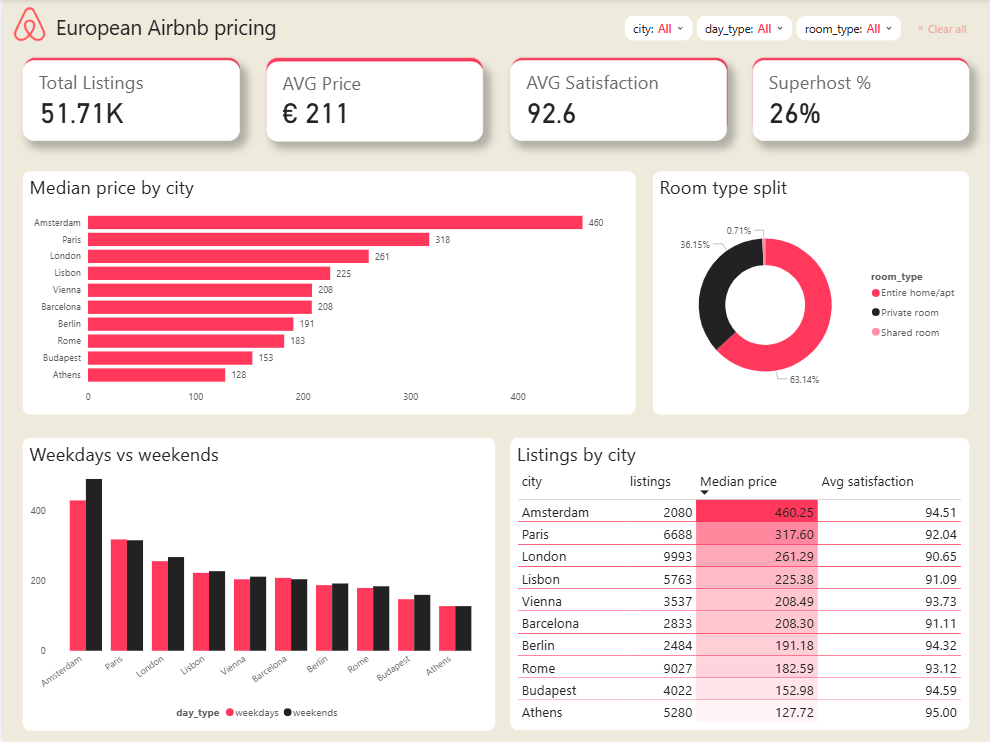

This screenshot's page, from the dashboard's own definition file:
{"tool":"powerbi","page":{"name":"Overview","canvas":[1280,970],"ordinal":0},"visuals":[{"type":"textbox","box":[52.5,7.5,317.5,67.5],"z":0},{"type":"PBI_CV_7B952816_A48F_49B4_9E13_15E3BB2C0337","title":"Total Listings","fields":{"Values":["CountNonNull(GOLD fact_listing.listing_key)"]},"box":[26,76,280.8,98.8],"z":1000},{"type":"PBI_CV_7B952816_A48F_49B4_9E13_15E3BB2C0337","title":"Total Listings","fields":{"Values":["CountNonNull(GOLD fact_listing.listing_key)"]},"box":[25,80,282.6,104.6],"z":2000},{"type":"PBI_CV_7B952816_A48F_49B4_9E13_15E3BB2C0337","title":"Total Listings","fields":{"Values":["CountNonNull(GOLD fact_listing.listing_key)"]},"box":[341.5,76.2,281,98.8],"z":3000},{"type":"PBI_CV_7B952816_A48F_49B4_9E13_15E3BB2C0337","title":"Total Listings","fields":{"Values":["CountNonNull(GOLD fact_listing.listing_key)"]},"box":[659.4,76,280.6,98.8],"z":4000},{"type":"PBI_CV_7B952816_A48F_49B4_9E13_15E3BB2C0337","title":"Total Listings","fields":{"Values":["CountNonNull(GOLD fact_listing.listing_key)"]},"box":[973.5,76,281.2,98.8],"z":5000},{"type":"PBI_CV_7B952816_A48F_49B4_9E13_15E3BB2C0337","title":"AVG Price","fields":{"Values":["Median(GOLD fact_listing.real_sum)"]},"box":[341.2,80.8,281.2,103.8],"z":6000},{"type":"PBI_CV_7B952816_A48F_49B4_9E13_15E3BB2C0337","title":"AVG Satisfaction","fields":{"Values":["Avg(GOLD fact_listing.guest_satisfaction_overall)"]},"box":[658.8,80,281.2,105],"z":7000},{"type":"PBI_CV_7B952816_A48F_49B4_9E13_15E3BB2C0337","title":"Superhost %","fields":{"Values":["GOLD fact_listing.Superhost %"]},"box":[973.8,80,281.2,105],"z":8000},{"type":"smartFilterBarSDKA9F7BD62E04ADCE9DD7450D052A5DB60","fields":{"fields":["GOLD dim_city.city","GOLD dim_day_type.day_type","GOLD dim_room_type.room_type"]},"box":[460.4,12.5,820.8,227.1],"z":9000},{"type":"clusteredBarChart","title":"Median price by city","fields":{"Category":["GOLD dim_city.city"],"Y":["Median(GOLD fact_listing.real_sum)"]},"box":[25,225,796.9,315.6],"z":10000},{"type":"donutChart","title":"Room type split","fields":{"Category":["GOLD dim_room_type.room_type"],"Y":["CountNonNull(GOLD fact_listing.listing_key)"]},"box":[843.8,225,410.9,315.6],"z":11000},{"type":"clusteredColumnChart","title":"Weekdays vs weekends","fields":{"Category":["GOLD dim_city.city"],"Y":["Median(GOLD fact_listing.real_sum)"],"Series":["GOLD dim_day_type.day_type"]},"box":[24.4,570.7,614.6,380.5],"z":12000},{"type":"tableEx","title":"Listings by city","fields":{"Values":["GOLD dim_city.city","CountNonNull(GOLD fact_listing.listing_key)","Median(GOLD fact_listing.real_sum)","Avg(GOLD fact_listing.guest_satisfaction_overall)"]},"box":[657.8,570.3,596.9,379.7],"z":13000},{"type":"image","box":[0,8,66,49],"z":15000}]}

Visuals, with their boxes in screenshot pixels (x1, y1, x2, y2), scaled from the page's 1280x970 canvas onto the 990x742 screenshot:
textbox: BBox(41, 6, 286, 57)
"Total Listings" PBI_CV_7B952816_A48F_49B4_9E13_15E3BB2C0337: BBox(20, 58, 237, 134)
"Total Listings" PBI_CV_7B952816_A48F_49B4_9E13_15E3BB2C0337: BBox(19, 61, 238, 141)
"Total Listings" PBI_CV_7B952816_A48F_49B4_9E13_15E3BB2C0337: BBox(264, 58, 481, 134)
"Total Listings" PBI_CV_7B952816_A48F_49B4_9E13_15E3BB2C0337: BBox(510, 58, 727, 134)
"Total Listings" PBI_CV_7B952816_A48F_49B4_9E13_15E3BB2C0337: BBox(753, 58, 970, 134)
"AVG Price" PBI_CV_7B952816_A48F_49B4_9E13_15E3BB2C0337: BBox(264, 62, 481, 141)
"AVG Satisfaction" PBI_CV_7B952816_A48F_49B4_9E13_15E3BB2C0337: BBox(510, 61, 727, 142)
"Superhost %" PBI_CV_7B952816_A48F_49B4_9E13_15E3BB2C0337: BBox(753, 61, 971, 142)
smartFilterBarSDKA9F7BD62E04ADCE9DD7450D052A5DB60 - GOLD dim_city.city x GOLD dim_day_type.day_type: BBox(356, 10, 989, 183)
"Median price by city" clusteredBarChart: BBox(19, 172, 636, 414)
"Room type split" donutChart: BBox(653, 172, 970, 414)
"Weekdays vs weekends" clusteredColumnChart: BBox(19, 437, 494, 728)
"Listings by city" tableEx: BBox(509, 436, 970, 727)
image: BBox(0, 6, 51, 44)
